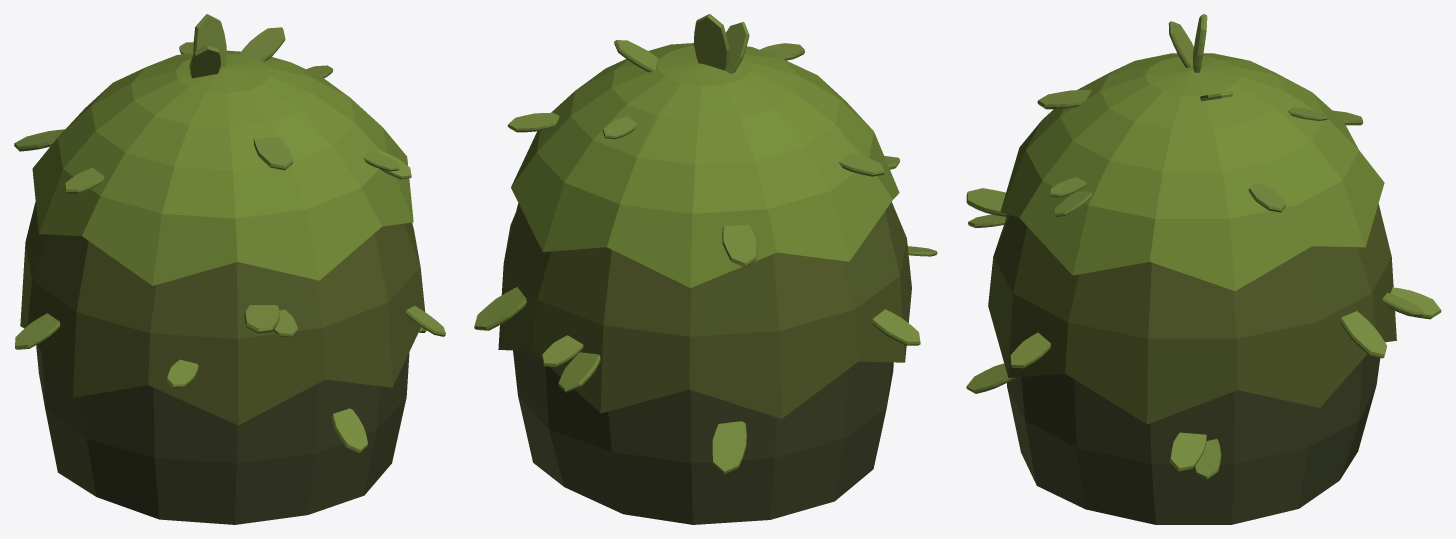
Rendered from Bush_1.fbx.
The picture shows the model from 3 angles, left to right: view 1: azimuth 30°, elevation 25°; view 2: azimuth 150°, elevation 25°; view 3: azimuth 270°, elevation 25°; orthographic projection. The views are drawn at different scales.
Parts seen in each view (by area): view 1: Sphere.048, Plane.555; view 2: Sphere.048, Plane.555; view 3: Sphere.048, Plane.555.
Part boxes in pixels (bbox=[...]): Sphere.048: bbox=[20, 50, 425, 524]; Plane.555: bbox=[14, 14, 445, 453]; Sphere.048: bbox=[498, 43, 911, 524]; Plane.555: bbox=[474, 14, 937, 474]; Sphere.048: bbox=[988, 53, 1396, 524]; Plane.555: bbox=[966, 14, 1441, 479].
Bounding box in the file's own units: 145 × 151 × 147.
